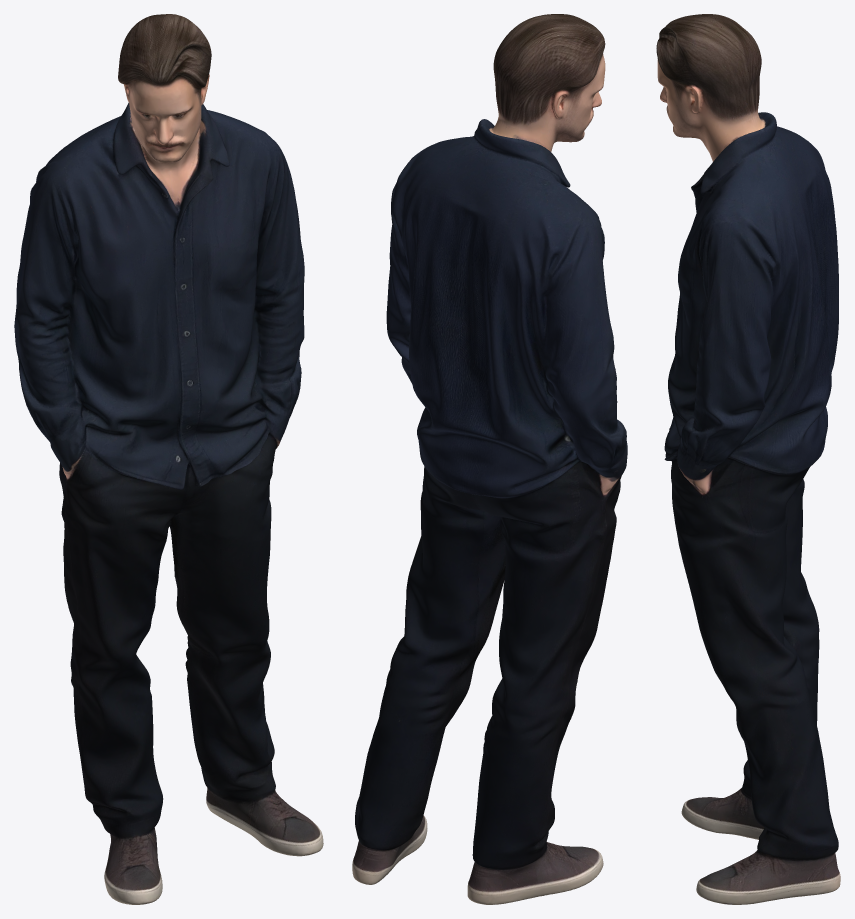
The model's file is quiet-moment-in-navy-ca5f5619.glb.
The picture shows the model from 3 angles, left to right: view 1: azimuth 30°, elevation 25°; view 2: azimuth 150°, elevation 25°; view 3: azimuth 270°, elevation 25°; orthographic projection. The views are drawn at different scales.
Parts seen in each view (by area): view 1: mesh_0; view 2: mesh_0; view 3: mesh_0.
Boxes of the visible parts, x1=… form: mesh_0: x1=14, y1=14, x2=323, y2=904; mesh_0: x1=352, y1=14, x2=627, y2=904; mesh_0: x1=656, y1=14, x2=840, y2=904.
Bounding box in the file's own units: 0.6152 × 1.9 × 0.3871.
Materials: 1 (1 with a texture image).
